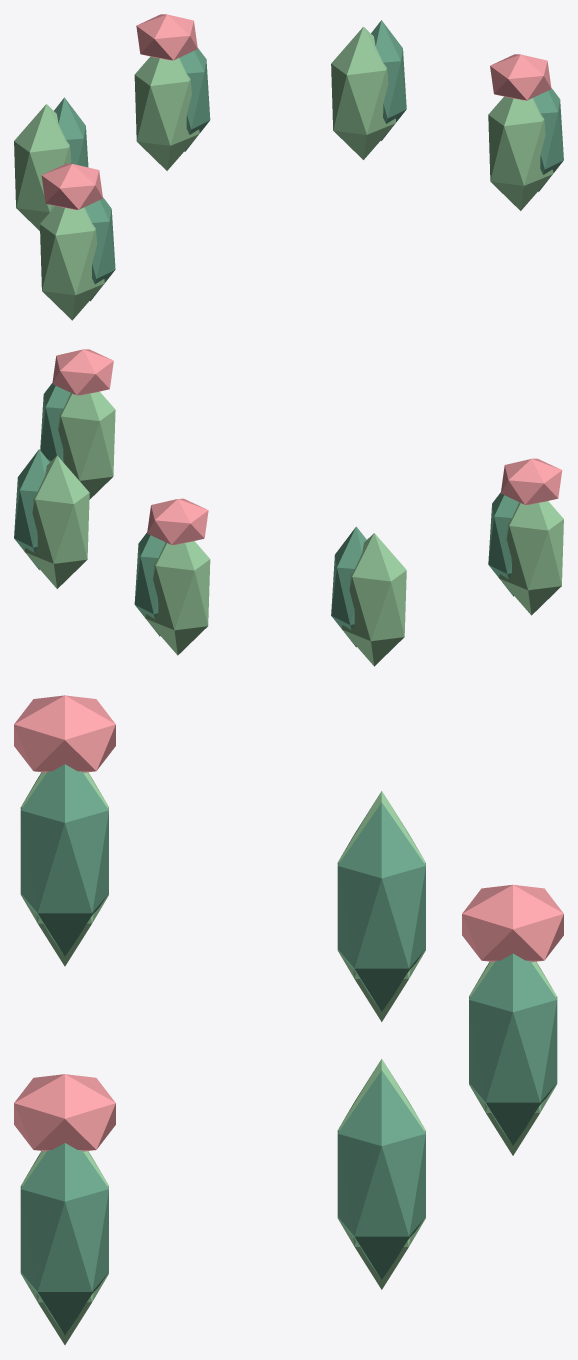
3 renders of one model, top to bottom at view 1: azimuth 30°, elevation 25°; view 2: azimuth 150°, elevation 25°; view 3: azimuth 270°, elevation 25°, orthographic. The views are drawn at different scales.
Visible parts, largest first — view 1: ai_export.002; view 2: ai_export.002; view 3: ai_export.002.
Boxes of the visible parts, <box> form: ai_export.002: <box>14,14,563,320</box>; ai_export.002: <box>14,349,563,666</box>; ai_export.002: <box>14,695,563,1344</box>.
Size of the model in its own units: 2.59 by 0.75 by 1.38.
